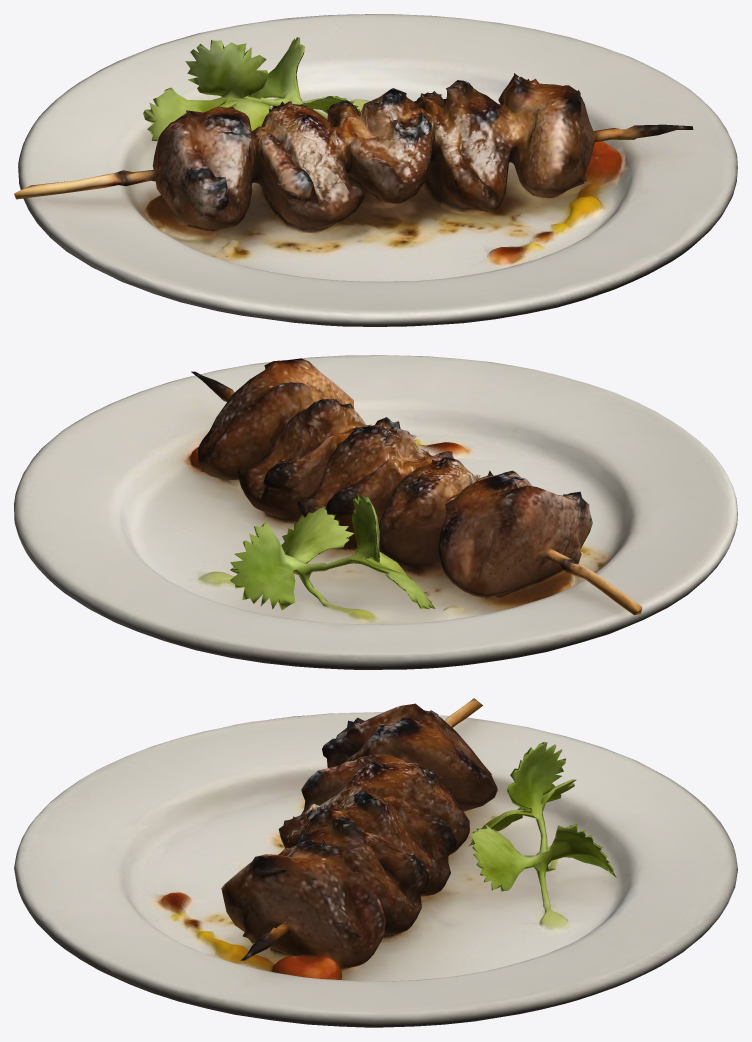
The model's file is anticuchos.glb.
3 renders of one model, top to bottom at view 1: azimuth 30°, elevation 25°; view 2: azimuth 150°, elevation 25°; view 3: azimuth 270°, elevation 25°, orthographic.
Parts seen in each view (by area): view 1: tripo_node_bcf178a2-b0ed-44b1-ad52-27136416ad12; view 2: tripo_node_bcf178a2-b0ed-44b1-ad52-27136416ad12; view 3: tripo_node_bcf178a2-b0ed-44b1-ad52-27136416ad12.
Part boxes in pixels (x1,y1,x2,y2): tripo_node_bcf178a2-b0ed-44b1-ad52-27136416ad12: (14, 14, 737, 326); tripo_node_bcf178a2-b0ed-44b1-ad52-27136416ad12: (14, 355, 737, 669); tripo_node_bcf178a2-b0ed-44b1-ad52-27136416ad12: (14, 698, 737, 1027).
Bounding box in the file's own units: 1 × 0.1962 × 0.9984.
1 material, 1 textured.
